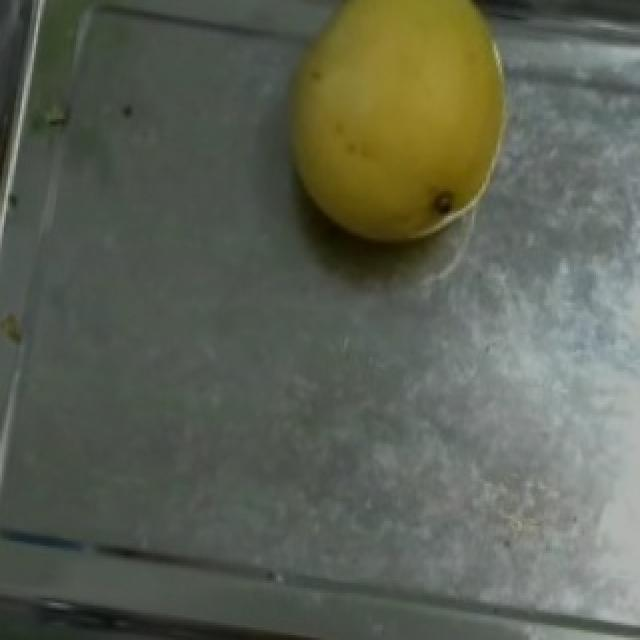fruit: (256, 0, 538, 265)
